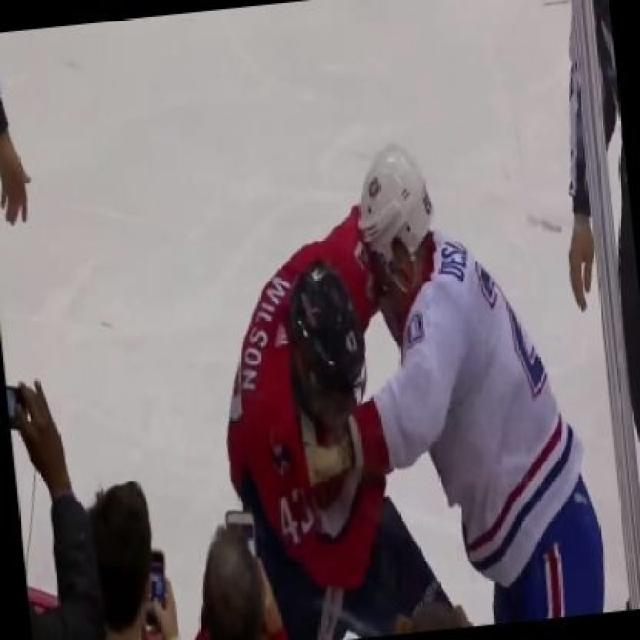fight: (212, 149, 630, 640)
